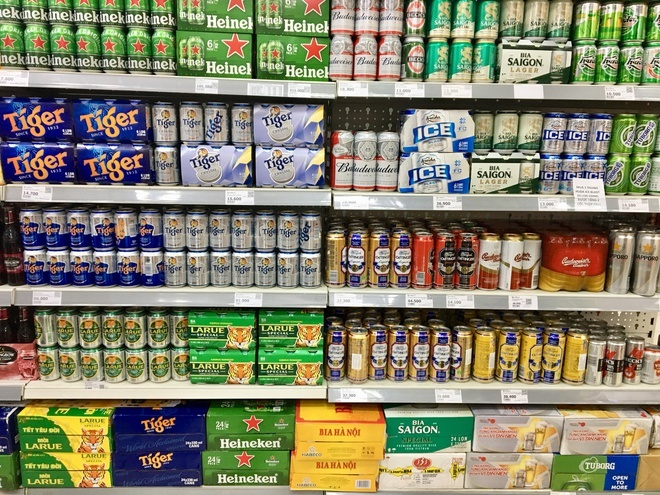333: (412, 455, 429, 467)
biabeck: (405, 54, 425, 65), (406, 11, 426, 20), (623, 356, 643, 364)
biahanoi: (315, 424, 362, 439), (314, 458, 358, 471)
biahuda: (419, 156, 436, 166), (578, 56, 596, 65), (601, 56, 618, 65), (424, 113, 441, 122), (625, 57, 641, 66)
biasaigon: (395, 423, 438, 436), (508, 56, 544, 68), (476, 169, 511, 180), (500, 19, 523, 29), (452, 19, 474, 26)
bierelarue: (24, 441, 63, 453), (26, 476, 64, 486), (259, 324, 296, 333), (259, 362, 293, 371), (190, 362, 226, 370), (189, 326, 225, 333), (124, 364, 145, 370), (149, 364, 169, 370), (79, 329, 98, 334)
budweiser: (353, 161, 375, 174), (332, 10, 356, 21), (337, 161, 352, 172)
heineken: (284, 16, 332, 39), (206, 15, 254, 35), (283, 62, 328, 81), (215, 472, 277, 485), (205, 59, 252, 75), (220, 438, 281, 449), (25, 52, 51, 67)
sapporo: (634, 252, 658, 263), (610, 250, 629, 263)
tiger: (3, 147, 68, 181), (3, 106, 65, 138), (79, 106, 139, 139), (135, 451, 176, 470), (203, 109, 225, 141), (139, 416, 176, 434), (260, 112, 295, 129), (261, 155, 295, 171), (189, 154, 221, 169), (154, 116, 176, 130), (231, 118, 253, 131), (278, 227, 298, 240), (181, 117, 202, 129), (299, 264, 319, 276), (162, 225, 182, 237), (116, 263, 136, 275), (95, 225, 114, 237), (155, 160, 175, 171), (212, 263, 230, 275), (164, 264, 182, 276), (186, 226, 203, 238), (233, 265, 253, 275), (255, 265, 274, 275)
tuborg: (635, 121, 656, 149), (631, 161, 650, 190), (605, 160, 624, 187), (583, 459, 618, 472)
